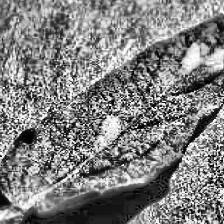leaf mold: (0, 0, 224, 215)
